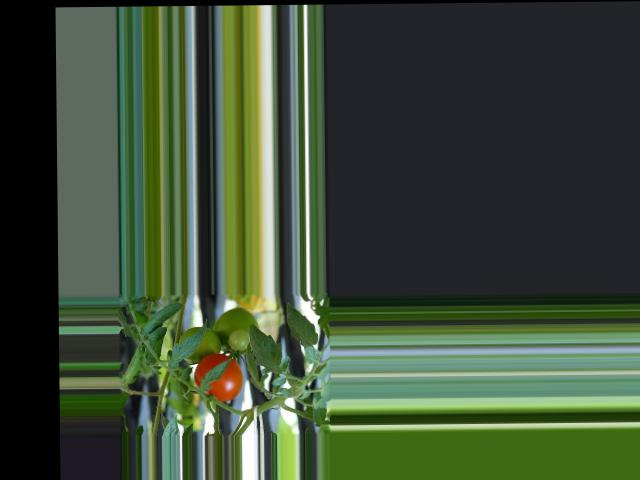tomato: (194, 353, 243, 402)
